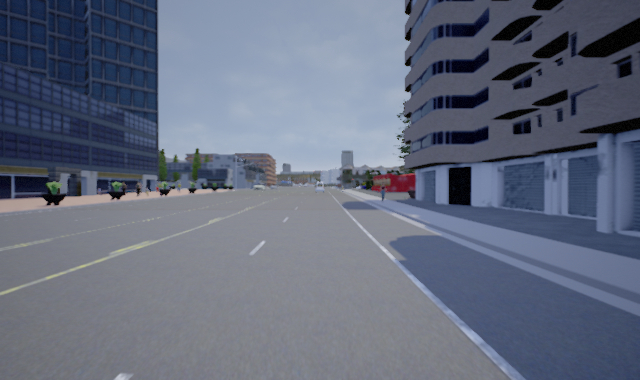pedestrian: (381, 183, 386, 200)
